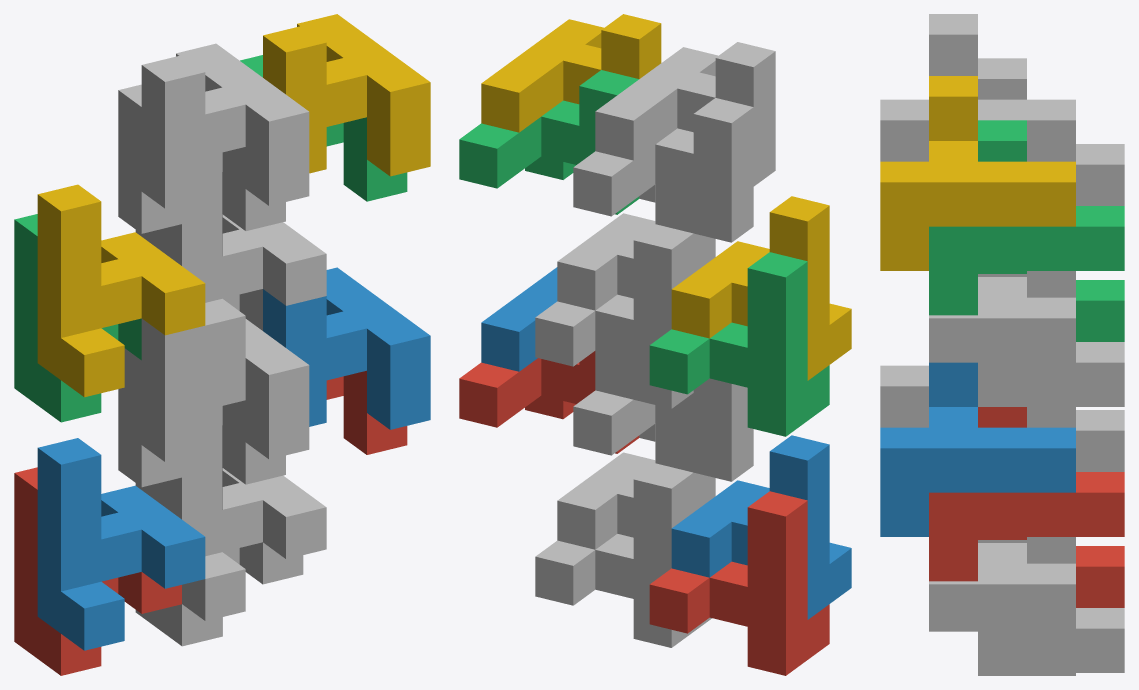
The model's file is tiling.obj.
3 renders of one model, left to right at view 1: azimuth 30°, elevation 25°; view 2: azimuth 150°, elevation 25°; view 3: azimuth 270°, elevation 25°, orthographic. The views are drawn at different scales.
Visible parts, largest first — view 1: copy_1_domain_4, copy_1_domain_2, copy_2_domain_4, copy_2_domain_2, copy_2_domain_8, copy_2_domain_6, copy_1_domain_6, copy_1_domain_8, copy_1_domain_1, copy_2_domain_3, copy_1_domain_3, copy_2_domain_1 (+4 smaller); view 2: copy_1_domain_1, copy_1_domain_3, copy_2_domain_3, copy_2_domain_4, copy_1_domain_2, copy_1_domain_4, copy_1_domain_5, copy_1_domain_7, copy_2_domain_8, copy_2_domain_1, copy_2_domain_7, copy_1_domain_6 (+4 smaller); view 3: copy_2_domain_8, copy_2_domain_6, copy_2_domain_7, copy_2_domain_5, copy_2_domain_4, copy_1_domain_6, copy_1_domain_8, copy_1_domain_5, copy_1_domain_7, copy_2_domain_3, copy_2_domain_2, copy_1_domain_1 (+2 smaller).
Part boxes in pixels (x1=…): copy_1_domain_4: x1=37, y1=184, x2=205, y2=397; copy_1_domain_2: x1=37, y1=438, x2=205, y2=650; copy_2_domain_4: x1=141, y1=43, x2=309, y2=208; copy_2_domain_2: x1=141, y1=318, x2=309, y2=461; copy_2_domain_8: x1=263, y1=14, x2=430, y2=176; copy_2_domain_6: x1=263, y1=267, x2=430, y2=429; copy_1_domain_6: x1=159, y1=425, x2=326, y2=621; copy_1_domain_8: x1=159, y1=172, x2=326, y2=367; copy_1_domain_1: x1=14, y1=467, x2=181, y2=675; copy_2_domain_3: x1=118, y1=84, x2=285, y2=233; copy_1_domain_3: x1=14, y1=214, x2=141, y2=422; copy_2_domain_1: x1=118, y1=348, x2=285, y2=487; copy_1_domain_1: x1=649, y1=491, x2=829, y2=675; copy_1_domain_3: x1=649, y1=252, x2=829, y2=436; copy_2_domain_3: x1=573, y1=98, x2=753, y2=242; copy_2_domain_4: x1=595, y1=42, x2=775, y2=186; copy_1_domain_2: x1=671, y1=435, x2=851, y2=619; copy_1_domain_4: x1=671, y1=196, x2=851, y2=380; copy_1_domain_5: x1=535, y1=463, x2=711, y2=647; copy_1_domain_7: x1=535, y1=224, x2=693, y2=408; copy_2_domain_8: x1=481, y1=14, x2=661, y2=132; copy_2_domain_1: x1=573, y1=378, x2=753, y2=481; copy_2_domain_7: x1=459, y1=70, x2=639, y2=214; copy_1_domain_6: x1=557, y1=423, x2=715, y2=549; copy_2_domain_8: x1=880, y1=76, x2=1075, y2=270; copy_2_domain_6: x1=880, y1=362, x2=1075, y2=536; copy_2_domain_7: x1=929, y1=120, x2=1124, y2=315; copy_2_domain_5: x1=929, y1=407, x2=1124, y2=581; copy_2_domain_4: x1=880, y1=14, x2=1075, y2=161; copy_1_domain_6: x1=929, y1=540, x2=1075, y2=631; copy_1_domain_8: x1=929, y1=274, x2=1075, y2=362; copy_1_domain_5: x1=978, y1=537, x2=1124, y2=675; copy_1_domain_7: x1=978, y1=271, x2=1124, y2=406; copy_2_domain_3: x1=978, y1=58, x2=1124, y2=205; copy_2_domain_2: x1=880, y1=365, x2=1075, y2=427; copy_1_domain_1: x1=1076, y1=546, x2=1124, y2=607.
Bounding box in the file's own units: 8 × 14 × 5.
